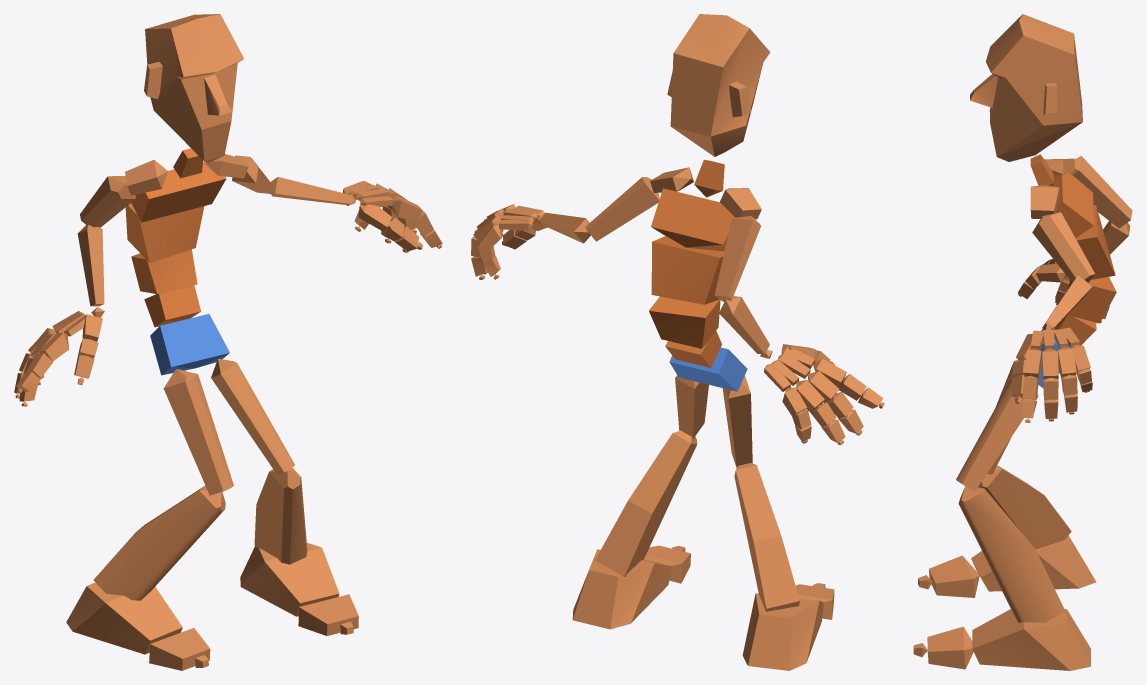
Rendered from prueba122.obj.
3 views of the same model, side by side, from view 1: azimuth 30°, elevation 25°; view 2: azimuth 150°, elevation 25°; view 3: azimuth 270°, elevation 25° (orthographic). The views are drawn at different scales.
Visible parts, largest first — view 1: BOPED_Head, BOPED_R_leg, BOPED_R_foot, BOPED_R_foot01, BOPED_R_legup, BOPED_L_leg, Bone01, BOPED_L_legup, Bone04, Bone05, Bone03, BOPED_R_foot_toe01 (+9 smaller); view 2: BOPED_Head, BOPED_L_leg, BOPED_R_leg, BOPED_R_foot01, BOPED_R_foot, Bone04, Bone05, Bone03, BOPED_R_arm_upper, BOPED_L_arm_upper, BOPED_R_legup, Bone01 (+9 smaller); view 3: BOPED_Head, BOPED_L_leg, BOPED_R_foot01, BOPED_R_leg, BOPED_L_legup, BOPED_R_foot, BOPED_L_arm_upper, Bone05, BOPED_R_arm_upper, BOPED_R_foot_toe01, BOPED_R_foot_toe04, Bone04 (+14 smaller).
Part boxes in pixels (box(x1,y1,x2,y2)): BOPED_Head: box(144, 14, 244, 162); BOPED_R_leg: box(93, 485, 225, 600); BOPED_R_foot: box(66, 582, 182, 654); BOPED_R_foot01: box(240, 543, 339, 616); BOPED_R_legup: box(163, 369, 233, 495); BOPED_L_leg: box(254, 467, 307, 564); Bone01: box(150, 314, 229, 375); BOPED_L_legup: box(211, 359, 294, 475); Bone04: box(125, 203, 204, 262); Bone05: box(131, 161, 226, 222); Bone03: box(131, 249, 197, 294); BOPED_R_foot_toe01: box(149, 628, 210, 670); BOPED_Head: box(667, 14, 770, 156); BOPED_L_leg: box(595, 430, 697, 576); BOPED_R_leg: box(734, 463, 799, 611); BOPED_R_foot01: box(572, 549, 671, 629); BOPED_R_foot: box(742, 593, 823, 670); Bone04: box(651, 236, 724, 304); Bone05: box(651, 188, 734, 251); Bone03: box(649, 296, 720, 348); BOPED_R_arm_upper: box(714, 216, 760, 301); BOPED_L_arm_upper: box(585, 177, 659, 241); BOPED_R_legup: box(722, 375, 752, 467); Bone01: box(669, 347, 747, 391); BOPED_Head: box(970, 14, 1082, 161); BOPED_L_leg: box(958, 486, 1065, 622); BOPED_R_foot01: box(972, 609, 1090, 670); BOPED_R_leg: box(978, 465, 1071, 549); BOPED_L_legup: box(956, 379, 1038, 491); BOPED_R_foot: box(971, 535, 1096, 591); BOPED_L_arm_upper: box(1032, 212, 1094, 282); Bone05: box(1052, 172, 1093, 238); BOPED_R_arm_upper: box(1070, 156, 1132, 228); BOPED_R_foot_toe01: box(929, 555, 979, 597); BOPED_R_foot_toe04: box(927, 626, 973, 669); Bone04: box(1076, 205, 1115, 279).
Size of the model in its own units: 130 by 181 by 60.85.
